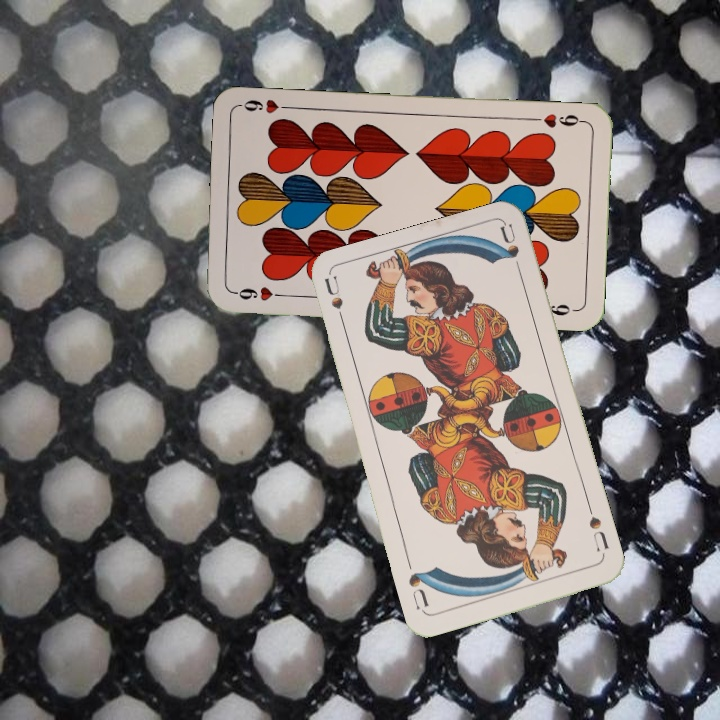H9: (528, 109, 587, 130), (229, 283, 288, 304)
SU: (321, 273, 349, 333), (584, 502, 611, 554)
